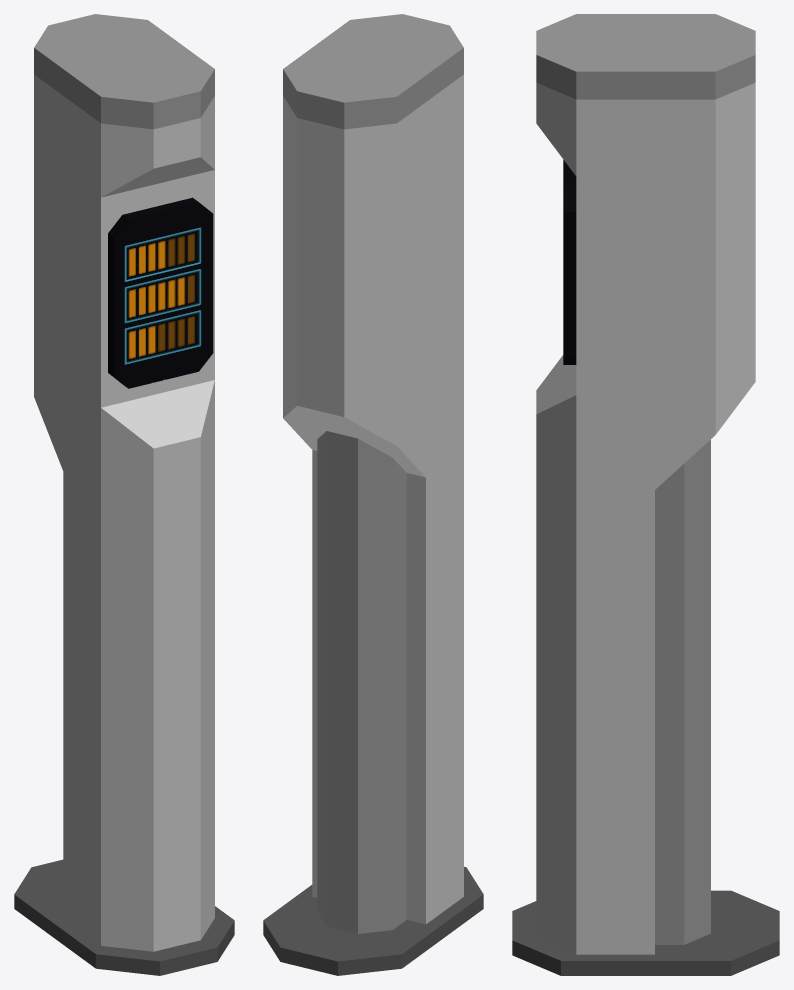
The model's file is SM_Control_Panel_1.fbx.
3 renders of one model, left to right at view 1: azimuth 30°, elevation 25°; view 2: azimuth 150°, elevation 25°; view 3: azimuth 270°, elevation 25°, orthographic. The views are drawn at different scales.
Parts seen in each view (by area): view 1: SM_Control_Panel_1; view 2: SM_Control_Panel_1; view 3: SM_Control_Panel_1.
Boxes of the visible parts, bbox=[...] form: SM_Control_Panel_1: bbox=[14, 14, 234, 975]; SM_Control_Panel_1: bbox=[263, 14, 483, 975]; SM_Control_Panel_1: bbox=[512, 14, 779, 975].
Size of the model in its own units: 16.94 by 101 by 27.2.
